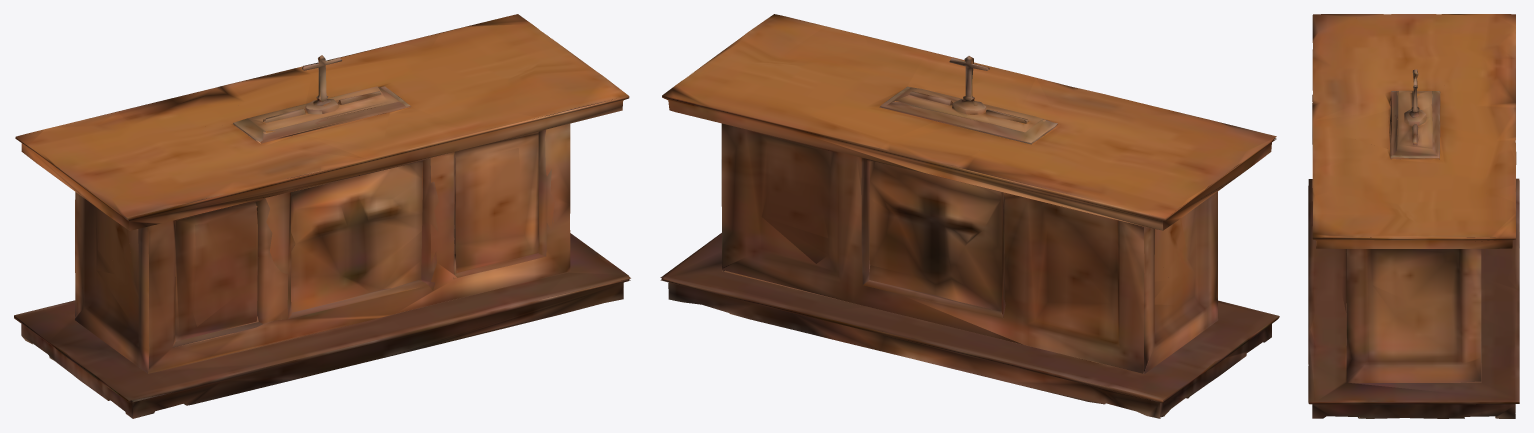
The model's file is altar.movil.glb.
3 views of the same model, side by side, from view 1: azimuth 30°, elevation 25°; view 2: azimuth 150°, elevation 25°; view 3: azimuth 270°, elevation 25° (orthographic). The views are drawn at different scales.
Visible parts, largest first — view 1: geometry_0; view 2: geometry_0; view 3: geometry_0.
Boxes of the visible parts, x1=… form: geometry_0: x1=14, y1=14, x2=630, y2=418; geometry_0: x1=660, y1=14, x2=1279, y2=418; geometry_0: x1=1308, y1=14, x2=1519, y2=418.
Size of the model in its own units: 2 by 1 by 0.7995.
1 material, 1 textured.
